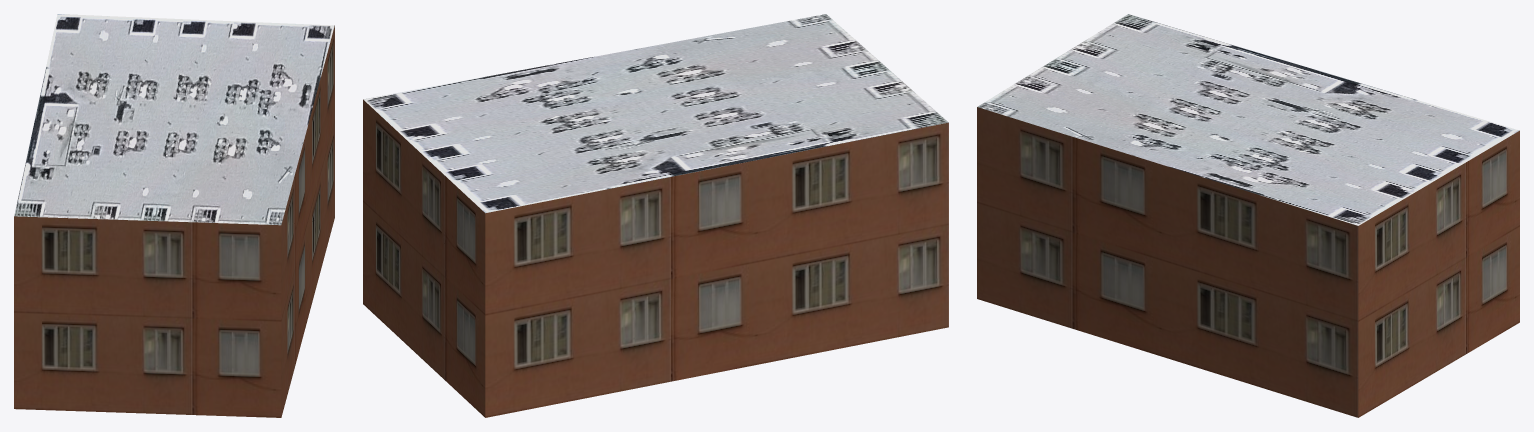
File: ResTex__5003.fbx
3 views of the same model, side by side, from view 1: azimuth 30°, elevation 25°; view 2: azimuth 150°, elevation 25°; view 3: azimuth 270°, elevation 25° (orthographic). The views are drawn at different scales.
Parts seen in each view (by area): view 1: CityEngineMaterial_20_m, CityEngineMaterial_m; view 2: CityEngineMaterial_20_m, CityEngineMaterial_m; view 3: CityEngineMaterial_20_m, CityEngineMaterial_m.
Boxes of the visible parts, x1,y1,x2,y2 form: CityEngineMaterial_20_m: (14, 25, 334, 417); CityEngineMaterial_m: (14, 14, 334, 225); CityEngineMaterial_20_m: (363, 99, 948, 417); CityEngineMaterial_m: (363, 14, 948, 213); CityEngineMaterial_20_m: (977, 107, 1519, 417); CityEngineMaterial_m: (977, 14, 1519, 225).
Bounding box in the file's own units: 14.21 × 6 × 15.37.
Materials: 2 (2 with a texture image).
